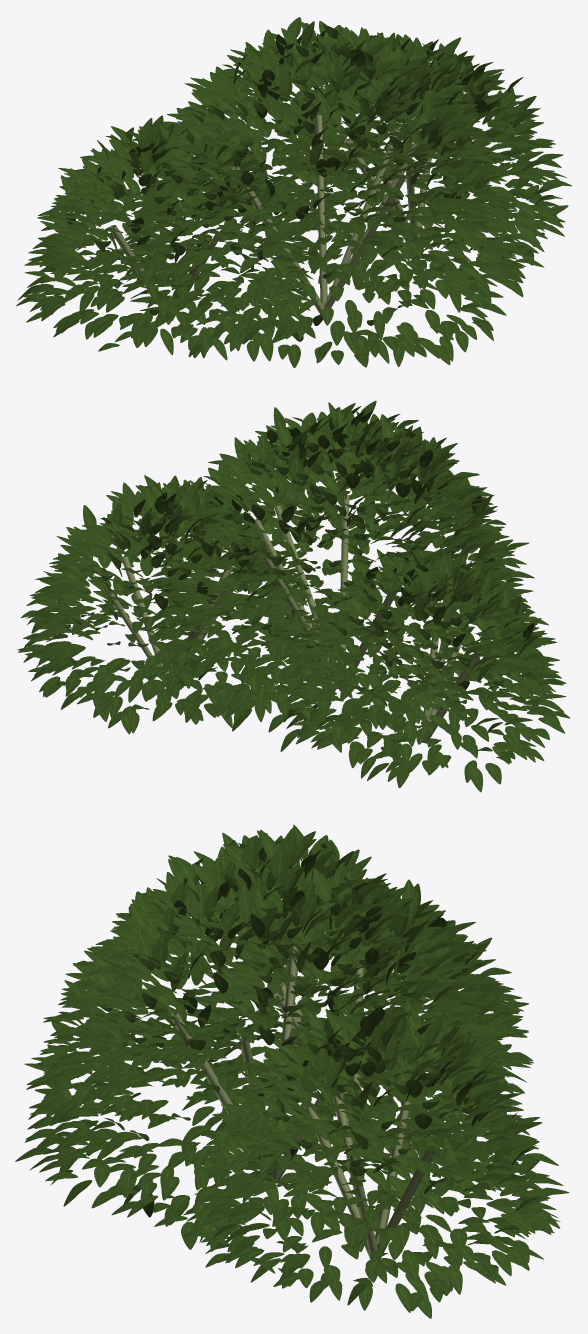
Rendered from yh_shrub.glb.
3 renders of one model, top to bottom at view 1: azimuth 30°, elevation 25°; view 2: azimuth 150°, elevation 25°; view 3: azimuth 270°, elevation 25°, orthographic. The views are drawn at different scales.
Visible parts, largest first — view 1: yh_shrub_花叶, yh_shrub_茎; view 2: yh_shrub_花叶, yh_shrub_茎; view 3: yh_shrub_花叶, yh_shrub_茎.
Boxes of the visible parts, <box> form: yh_shrub_花叶: <box>16,17,571,367</box>; yh_shrub_茎: <box>110,115,482,320</box>; yh_shrub_花叶: <box>17,400,570,792</box>; yh_shrub_茎: <box>102,495,479,743</box>; yh_shrub_花叶: <box>15,824,569,1318</box>; yh_shrub_茎: <box>171,946,435,1258</box>.
Bounding box in the file's own units: 1.92 × 1 × 1.5.
2 materials, 1 textured.
